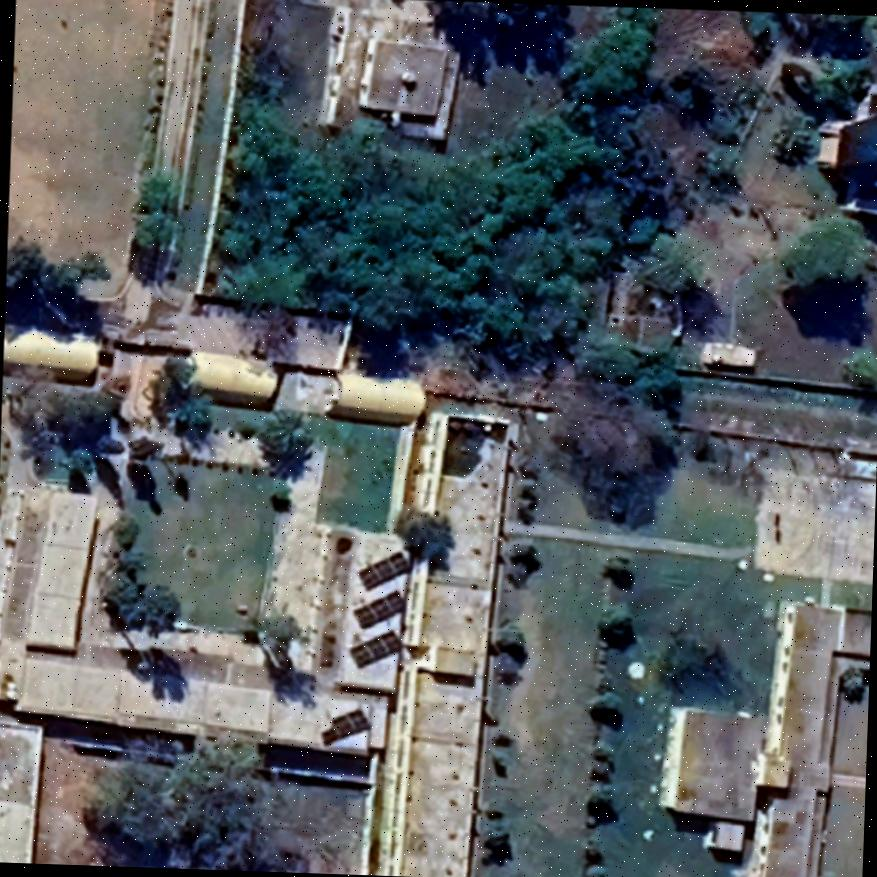Solarpanel: (350, 547, 419, 593), (347, 586, 411, 633), (311, 708, 371, 748), (346, 635, 405, 674)
